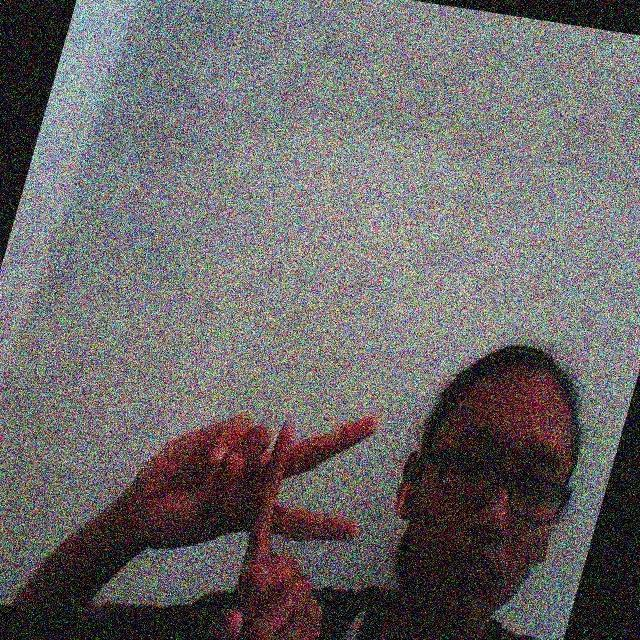F: (163, 399, 378, 632)
